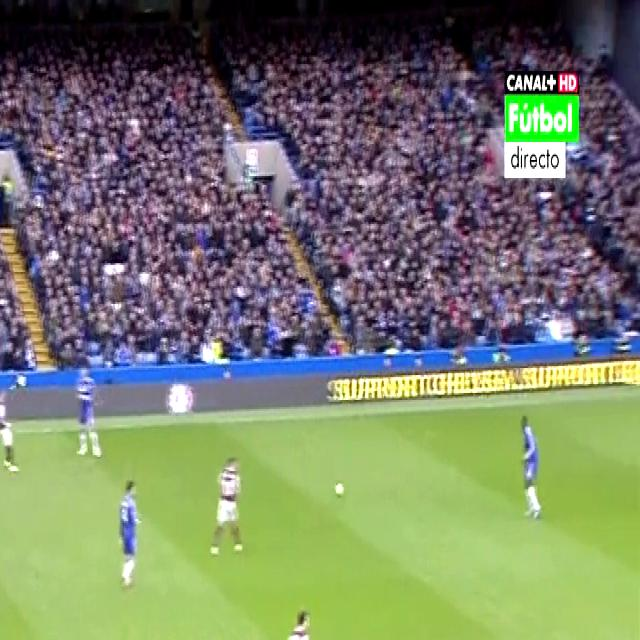ball: (336, 470, 350, 502), (331, 474, 346, 500)
soccer-player: (206, 438, 252, 561), (109, 470, 145, 598), (69, 360, 108, 468), (516, 404, 546, 526), (277, 597, 323, 640), (0, 372, 17, 476)
